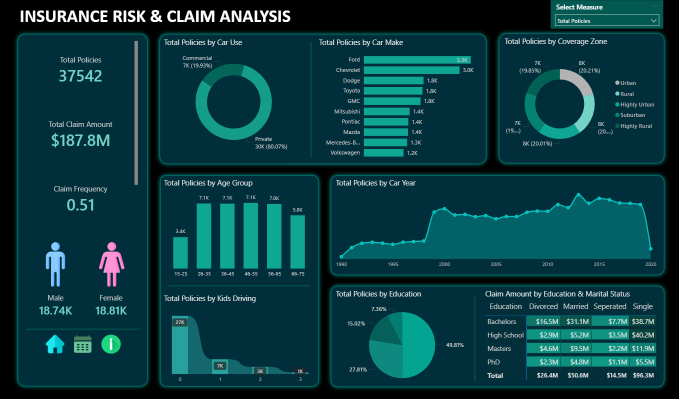

The dashboard page shown, as its layout file describes it:
{"tool":"powerbi","page":{"name":"INSURANCE RISK & CLAIMS ANALYSIS","canvas":[1600,950],"ordinal":0},"visuals":[{"type":"image","box":[73.5,573.8,114.6,114.6],"z":0,"group":"g1"},{"type":"textbox","box":[41.1,13.2,875.4,66.1],"z":0},{"type":"image","box":[205.7,573.8,114.6,114.6],"z":1000,"group":"g1"},{"type":"shape","box":[30.8,77.3,327.5,851.9],"z":1000},{"type":"cardVisual","fields":{"Data":["insurance_data_car.Male Count","insurance_data_car.Female Count"]},"box":[67.6,670.7,257,111.6],"z":2000,"group":"g1"},{"type":"cardVisual","fields":{"Data":["insurance_data_car.Total Policies","insurance_data_car.Total Claim Amount","insurance_data_car.Claim Frequency","insurance_data_car.Avg Claim Amount"]},"box":[61.7,99.4,268.8,459.7],"z":2000},{"type":"group","id":"g1","title":"Group 1","box":[67.6,573.8,257,208.6],"z":3000},{"type":"shape","box":[365.7,77.3,791.7,327.5],"z":4000},{"type":"donutChart","fields":{"Y":["insurance_data_car.Total Claim Amount"],"Category":["insurance_data_car.Car Use"]},"box":[381.2,94.6,339.2,283.7],"z":5000},{"type":"clusteredBarChart","fields":{"Y":["insurance_data_car.Total Claim Amount"],"Category":["insurance_data_car.Car Make"]},"box":[747.5,94.6,393.2,297.2],"z":6000},{"type":"shape","box":[1164.7,75.9,411.3,327.5],"z":7000},{"type":"donutChart","fields":{"Y":["insurance_data_car.Total Claim Amount"],"Category":["insurance_data_car.Coverage Zone"]},"box":[1183.8,93.5,373.1,296.7],"z":8000},{"type":"slicer","fields":{"Values":["Select Measure.Select Measure"]},"box":[1298.3,7.5,265.7,67.5],"z":9000},{"type":"shape","box":[61.7,767.7,267.3,30.8],"z":10000},{"type":"shape","box":[366.2,409.8,394.7,519.3],"z":11000},{"type":"columnChart","fields":{"Y":["insurance_data_car.Total Claim Amount"],"Category":["insurance_data_car.Age Group"]},"box":[381.2,426.3,366.2,244.7],"z":12000},{"type":"ribbonChart","fields":{"Y":["insurance_data_car.Total Claim Amount"],"Category":["insurance_data_car.Kids Driving"]},"box":[381.2,697.9,369.2,220.6],"z":13000},{"type":"shape","box":[768.5,409.8,807.5,256.7],"z":14000},{"type":"areaChart","fields":{"Y":["insurance_data_car.Total Claim Amount"],"Category":["insurance_data_car.Car Year"]},"box":[786.5,426.3,765.5,222.1],"z":15000},{"type":"shape","box":[768.5,670.9,807.5,259.7],"z":16000},{"type":"pivotTable","title":"Claim Amount by Education & Marital Status","fields":{"Values":["insurance_data_car.Total Claim Amount"],"Rows":["insurance_data_car.Education"],"Columns":["insurance_data_car.Marital Status"]},"box":[1139.2,687.4,417.3,222.1],"z":17000},{"type":"pieChart","fields":{"Y":["insurance_data_car.Total Claim Amount"],"Category":["insurance_data_car.Education"]},"box":[786.5,687.4,322.7,243.2],"z":18000},{"type":"shape","box":[394.7,669.4,336.2,24],"z":19000},{"type":"shape","box":[712.9,106.6,40.5,271.7],"z":20000},{"type":"shape","box":[1098.7,702.4,40.5,204.1],"z":21000},{"type":"image","box":[103.6,791,54,54],"z":22000},{"type":"image","box":[234.1,782,55.5,72],"z":23000},{"type":"image","box":[166.6,789.5,57,57],"z":24000}]}

Visuals, with their boxes in screenshot pixels (x1, y1, x2, y2), scaled from the page's 1600x950 canvas onto the 679x399 screenshot:
image: bbox=[31, 241, 80, 289]
textbox: bbox=[17, 6, 389, 33]
image: bbox=[87, 241, 136, 289]
shape: bbox=[13, 32, 152, 390]
cardVisual - insurance_data_car.Male Count x insurance_data_car.Female Count: bbox=[29, 282, 138, 329]
cardVisual - insurance_data_car.Total Policies x insurance_data_car.Total Claim Amount: bbox=[26, 42, 140, 235]
"Group 1" group: bbox=[29, 241, 138, 329]
shape: bbox=[155, 32, 491, 170]
donutChart - insurance_data_car.Total Claim Amount x insurance_data_car.Car Use: bbox=[162, 40, 306, 159]
clusteredBarChart - insurance_data_car.Total Claim Amount x insurance_data_car.Car Make: bbox=[317, 40, 484, 165]
shape: bbox=[494, 32, 669, 169]
donutChart - insurance_data_car.Total Claim Amount x insurance_data_car.Coverage Zone: bbox=[502, 39, 661, 164]
slicer - Select Measure.Select Measure: bbox=[551, 3, 664, 32]
shape: bbox=[26, 322, 140, 335]
shape: bbox=[155, 172, 323, 390]
columnChart - insurance_data_car.Total Claim Amount x insurance_data_car.Age Group: bbox=[162, 179, 317, 282]
ribbonChart - insurance_data_car.Total Claim Amount x insurance_data_car.Kids Driving: bbox=[162, 293, 318, 386]
shape: bbox=[326, 172, 669, 280]
areaChart - insurance_data_car.Total Claim Amount x insurance_data_car.Car Year: bbox=[334, 179, 659, 272]
shape: bbox=[326, 282, 669, 391]
"Claim Amount by Education & Marital Status" pivotTable: bbox=[483, 289, 661, 382]
pieChart - insurance_data_car.Total Claim Amount x insurance_data_car.Education: bbox=[334, 289, 471, 391]
shape: bbox=[168, 281, 310, 291]
shape: bbox=[303, 45, 320, 159]
shape: bbox=[466, 295, 483, 381]
image: bbox=[44, 332, 67, 355]
image: bbox=[99, 328, 123, 359]
image: bbox=[71, 332, 95, 356]
